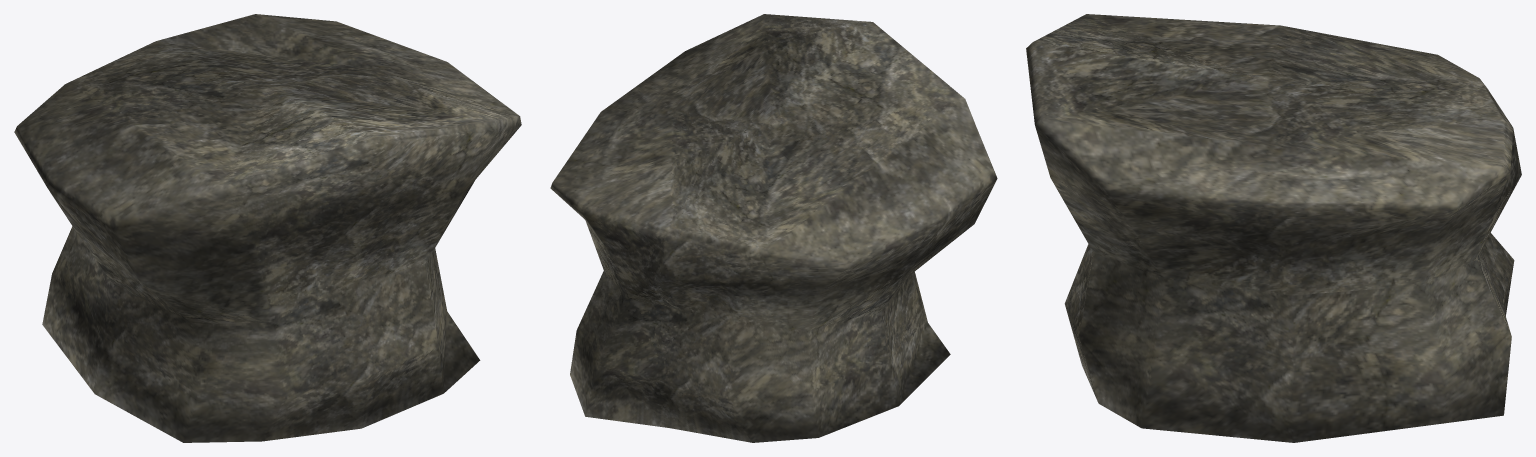
File: RockB_01.glb
3 views of the same model, side by side, from view 1: azimuth 30°, elevation 25°; view 2: azimuth 150°, elevation 25°; view 3: azimuth 270°, elevation 25° (orthographic). The views are drawn at different scales.
Visible parts, largest first — view 1: RockB_01.001; view 2: RockB_01.001; view 3: RockB_01.001.
Boxes of the visible parts, <box> form: RockB_01.001: <box>14,14,521,442</box>; RockB_01.001: <box>550,14,997,442</box>; RockB_01.001: <box>1026,14,1521,442</box>.
Bounding box in the file's own units: 6.49 × 5.08 × 6.81.
Materials: 1 (1 with a texture image).
